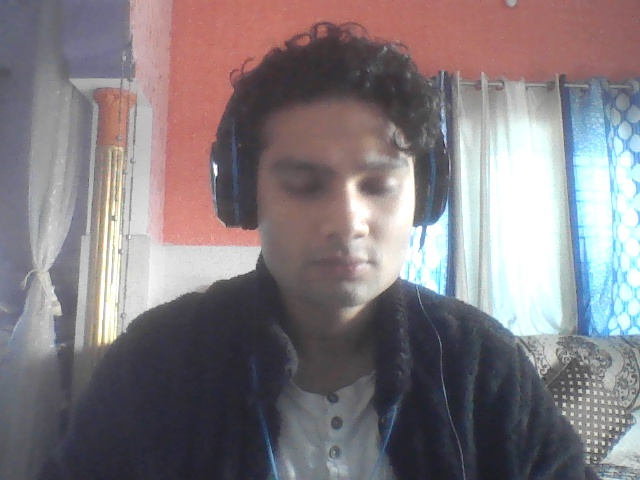real: (219, 25, 439, 337)
